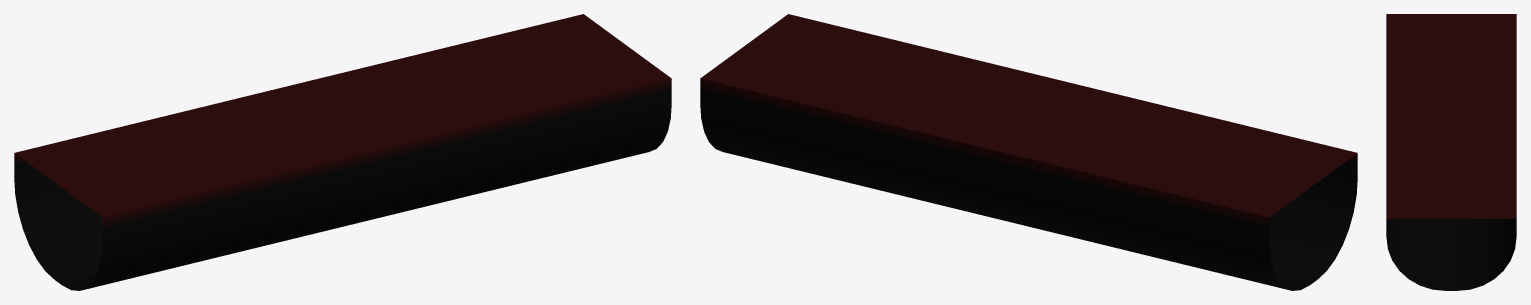
Rendered from gutter_straight_water_01.fbx.
3 renders of one model, left to right at view 1: azimuth 30°, elevation 25°; view 2: azimuth 150°, elevation 25°; view 3: azimuth 270°, elevation 25°, orthographic. The views are drawn at different scales.
Visible parts, largest first — view 1: Cube.051; view 2: Cube.051; view 3: Cube.051.
Part boxes in pixels (x1,y1,x2,y2): Cube.051: (14, 14, 671, 290); Cube.051: (700, 14, 1357, 290); Cube.051: (1386, 14, 1516, 290).
Bounding box in the file's own units: 2 × 0.3267 × 0.5365.
